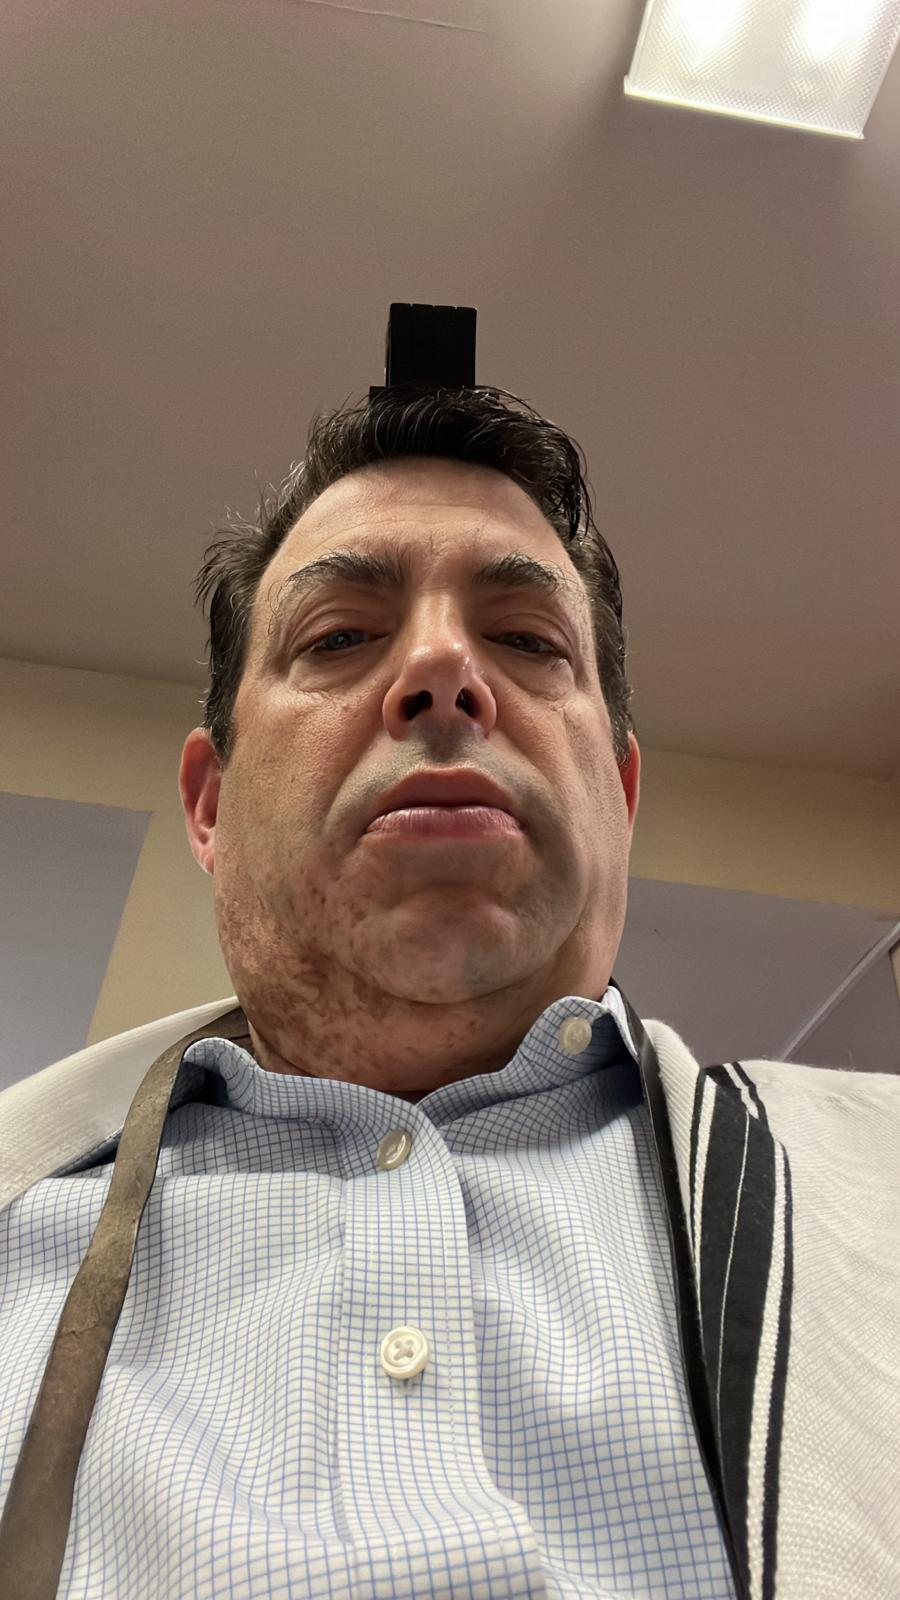tefillin: (367, 303, 491, 415)
